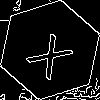X: (25, 25, 82, 81)
